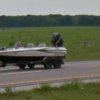Boat: (0, 32, 69, 74)
